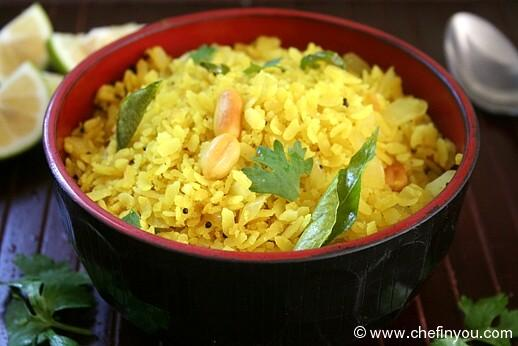poha: (61, 23, 472, 262)
